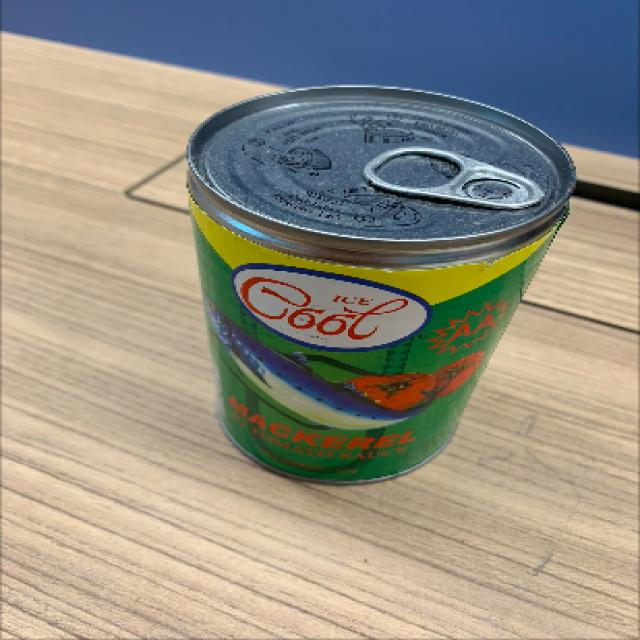object_name: (197, 81, 577, 492)
